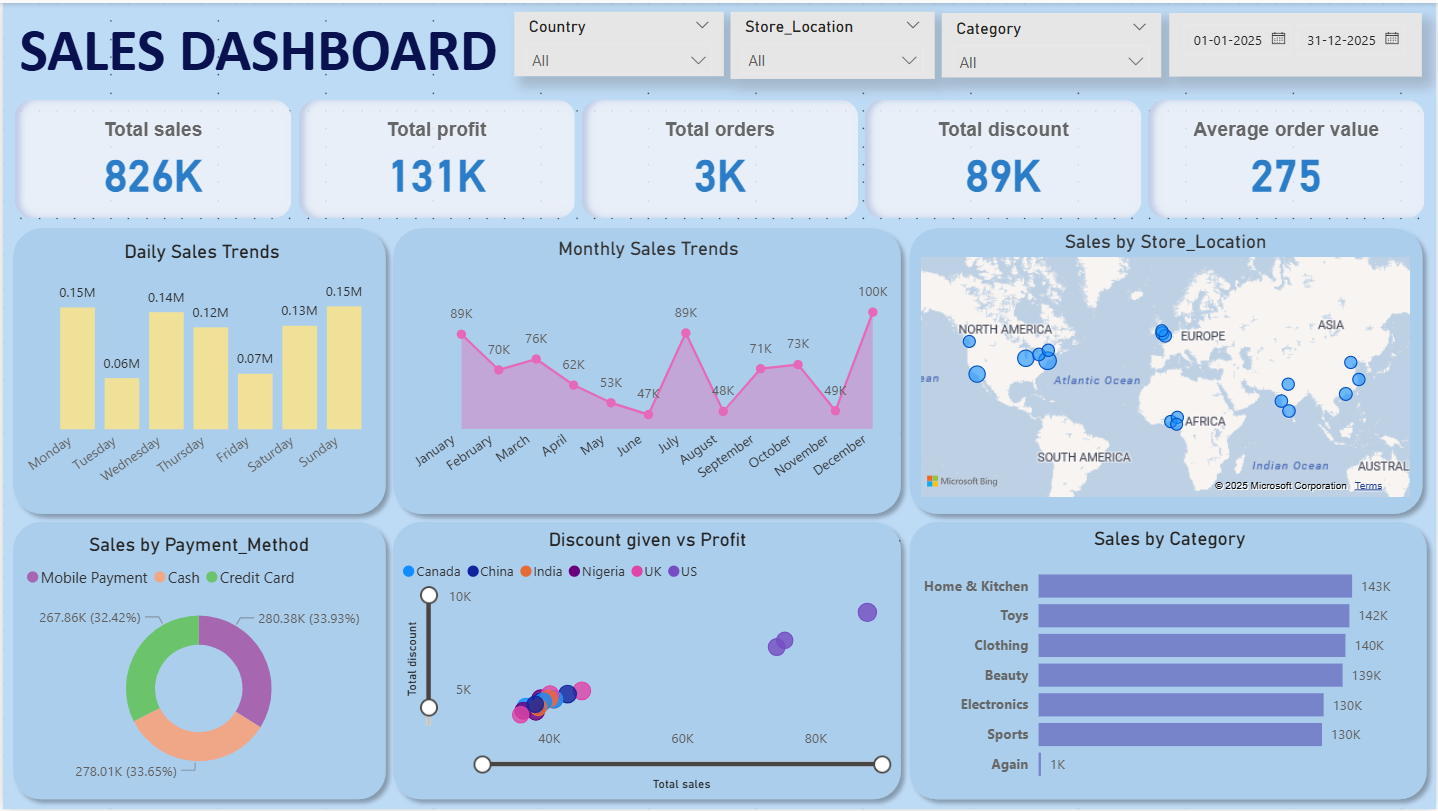

The dashboard page shown, as its layout file describes it:
{"tool":"powerbi","page":{"name":"Page 1","canvas":[1280,720],"ordinal":0},"visuals":[{"type":"cardVisual","fields":{"Data":["public sales_data.Total sales","public sales_data.Total profit","public sales_data.Total orders","public sales_data.Total discount","public sales_data.Average order value"]},"box":[5.8,81.5,1271.3,116.4],"z":0},{"type":"textbox","box":[0,5,456.2,76.2],"z":1000},{"type":"slicer","fields":{"Values":["public sales_data.Country"]},"box":[456.6,7.4,187.1,57.8],"z":2000},{"type":"slicer","fields":{"Values":["public sales_data.Store_Location"]},"box":[649.8,7.4,182.2,60.3],"z":3000},{"type":"slicer","fields":{"Values":["public sales_data.Category"]},"box":[838.2,8.6,195.7,57.8],"z":4000},{"type":"slicer","fields":{"Values":["public sales_data.Date"]},"box":[1041.2,8.6,225.2,56.6],"z":5000},{"type":"shape","box":[800,192,476.3,273.2],"z":6000},{"type":"map","title":"Sales by Store_Location","fields":{"Category":["public sales_data.Store_Location"],"Size":["public sales_data.Total sales"]},"box":[814.8,203.1,446.8,243.7],"z":7000},{"type":"shape","box":[339.7,192,471.4,273.2],"z":8000},{"type":"shape","box":[339.7,454.2,471.4,265.8],"z":9000},{"type":"shape","box":[800,454.2,480,265.8],"z":10000},{"type":"areaChart","title":"Monthly Sales Trends","fields":{"Category":["public sales_data.Month Name"],"Y":["public sales_data.Total sales"]},"box":[356.9,209.2,438.2,238.8],"z":11000},{"type":"shape","box":[0,192,350.8,273.2],"z":12000},{"type":"shape","box":[0,454.2,350.8,265.8],"z":13000},{"type":"scatterChart","title":"Discount given vs Profit","fields":{"Y":["public sales_data.Total discount"],"X":["public sales_data.Total sales"],"Category":["public sales_data.Store_Location"],"Series":["public sales_data.Country"],"Size":["public sales_data.Total orders"]},"box":[352,468.9,448,238.8],"z":14000},{"type":"barChart","title":"Sales by Category","fields":{"Y":["public sales_data.Total sales"],"Category":["public sales_data.Category"]},"box":[816,467.7,451.7,238.8],"z":15000},{"type":"donutChart","title":"Sales by Payment_Method","fields":{"Category":["public sales_data.Payment_Method"],"Y":["public sales_data.Total sales"]},"box":[16,473.8,318.8,228.9],"z":16000},{"type":"columnChart","title":"Daily Sales Trends","fields":{"Category":["public sales_data.Day Name"],"Y":["public sales_data.Total sales"]},"box":[13.5,211.7,328.6,238.8],"z":17000}]}

Visuals, with their boxes in screenshot pixels (x1, y1, x2, y2), scaled from the page's 1280x720 canvas onto the 1438x811 screenshot:
cardVisual - public sales_data.Total sales x public sales_data.Total profit: l=7, t=92, r=1435, b=223
textbox: l=0, t=6, r=513, b=91
slicer - public sales_data.Country: l=513, t=8, r=723, b=73
slicer - public sales_data.Store_Location: l=730, t=8, r=935, b=76
slicer - public sales_data.Category: l=942, t=10, r=1162, b=75
slicer - public sales_data.Date: l=1170, t=10, r=1423, b=73
shape: l=899, t=216, r=1434, b=524
"Sales by Store_Location" map: l=915, t=229, r=1417, b=503
shape: l=382, t=216, r=911, b=524
shape: l=382, t=512, r=911, b=810
shape: l=899, t=512, r=1437, b=810
"Monthly Sales Trends" areaChart: l=401, t=236, r=893, b=505
shape: l=0, t=216, r=394, b=524
shape: l=0, t=512, r=394, b=810
"Discount given vs Profit" scatterChart: l=395, t=528, r=899, b=797
"Sales by Category" barChart: l=917, t=527, r=1424, b=796
"Sales by Payment_Method" donutChart: l=18, t=534, r=376, b=792
"Daily Sales Trends" columnChart: l=15, t=238, r=384, b=507
